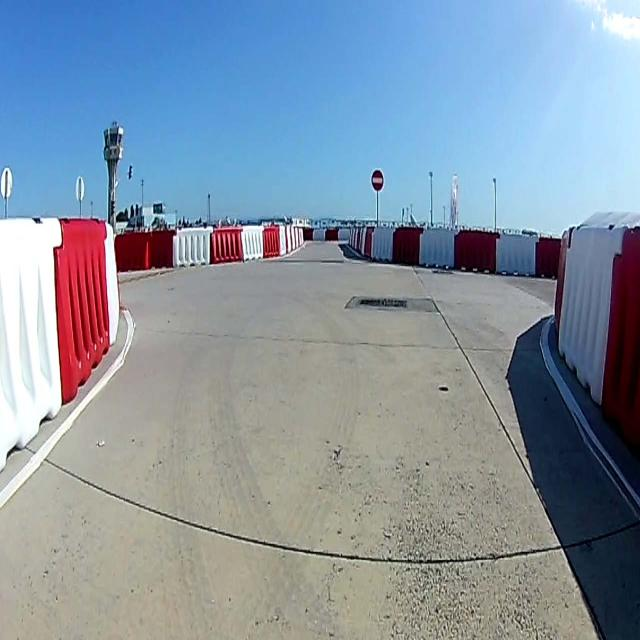girisyok: (371, 169, 383, 191)
